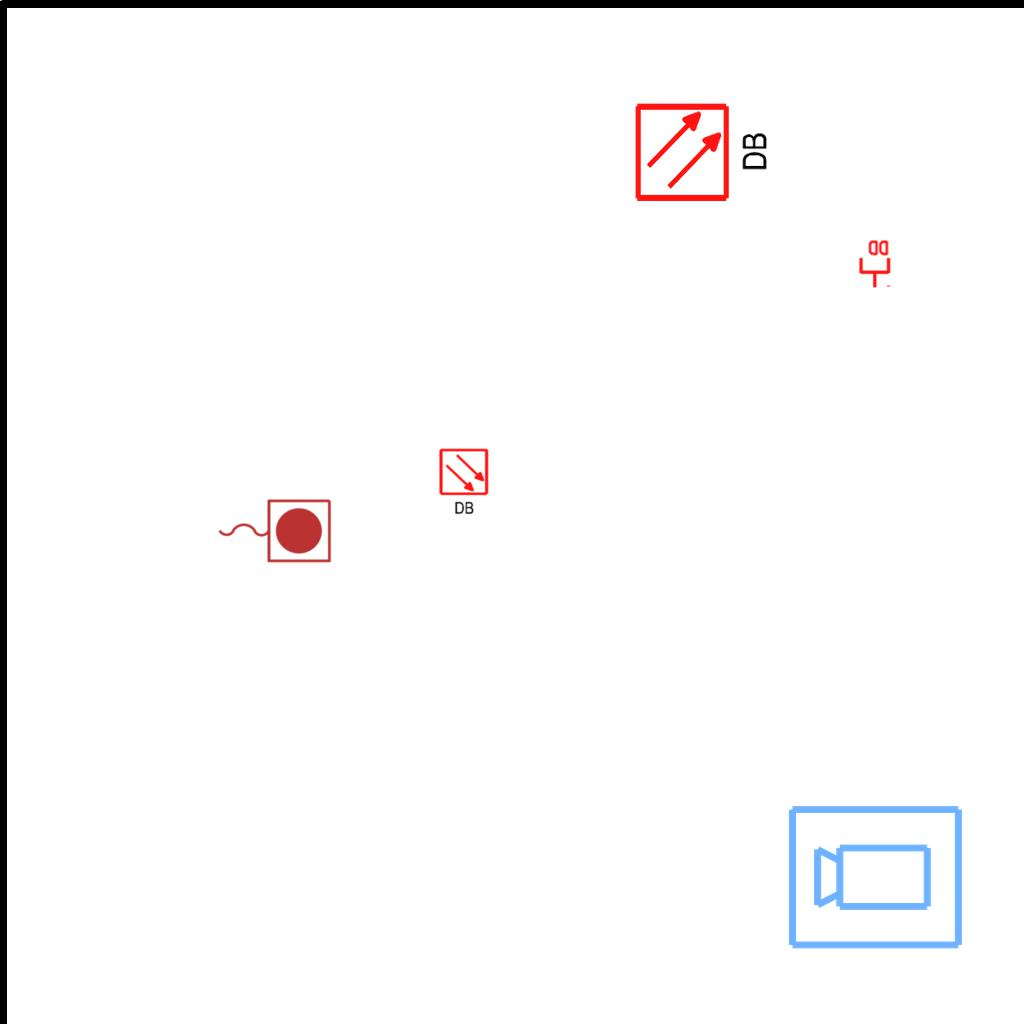DB_Melder_in_Doppelboden_mit_Revisionsoeffnung_mind_40_x_40_cm: (628, 94, 777, 208), (436, 445, 493, 519)
Datenanschluss_zweifach: (857, 238, 891, 289)
KFO_Kamera_mit_Festobjektiv: (785, 799, 967, 953)
Zugtaster: (213, 494, 335, 566)
